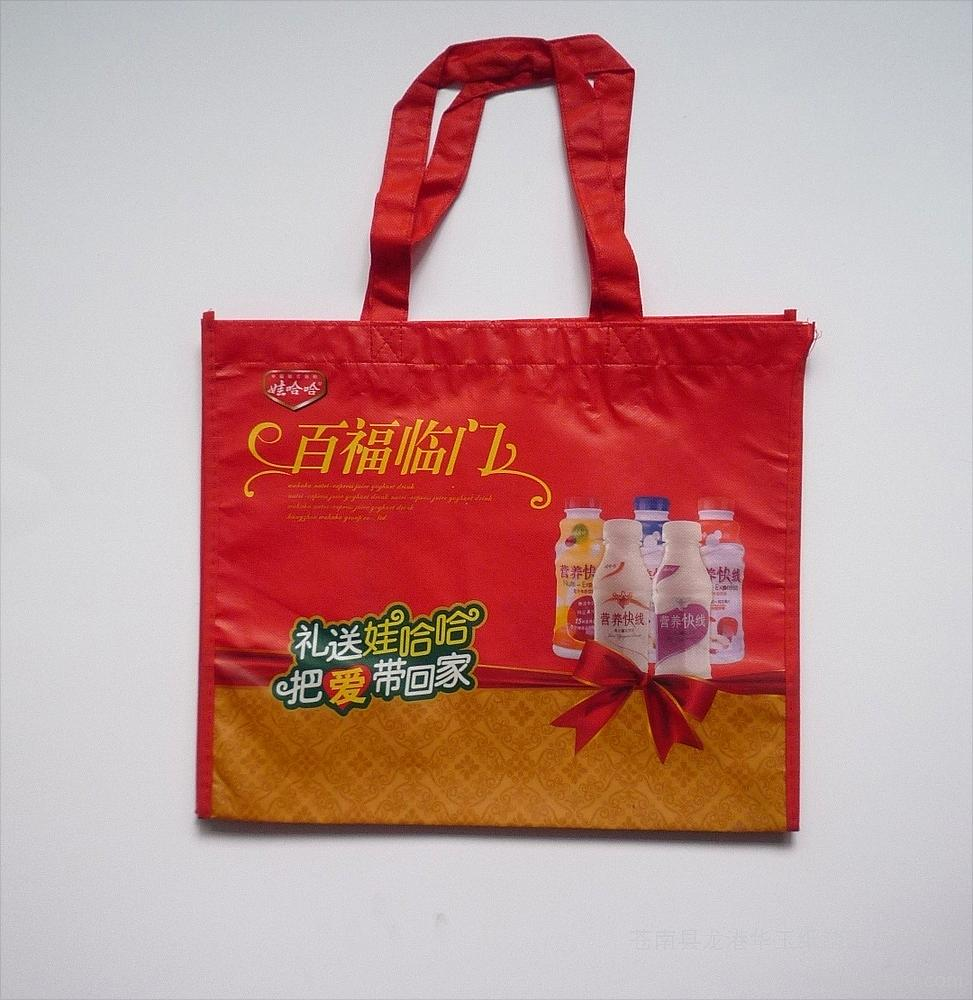flexible: (191, 35, 816, 846)
